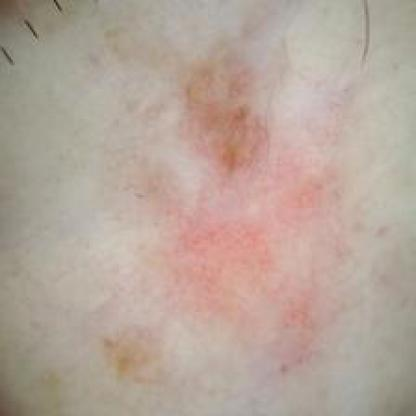malignant: (163, 52, 342, 299)
